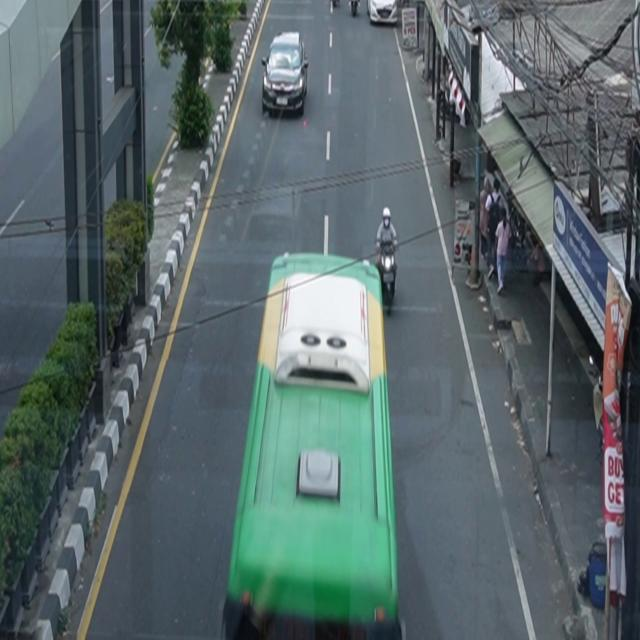bus: (221, 251, 405, 639)
car: (262, 31, 310, 118), (367, 1, 398, 26)
